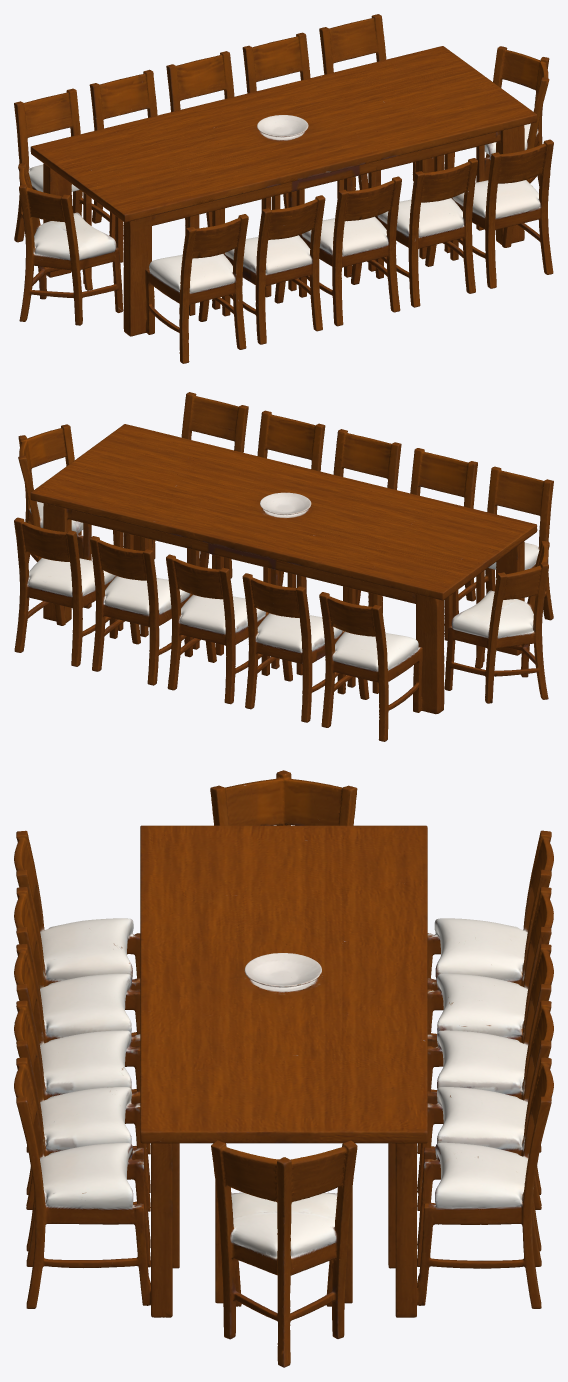
File: dining_set_10.glb
3 views of the same model, one above another, from view 1: azimuth 30°, elevation 25°; view 2: azimuth 150°, elevation 25°; view 3: azimuth 270°, elevation 25° (orthographic). The views are drawn at different scales.
Size of the model in its own units: 1.9 by 0.4647 by 1.1.
Materials: 1 (1 with a texture image).
